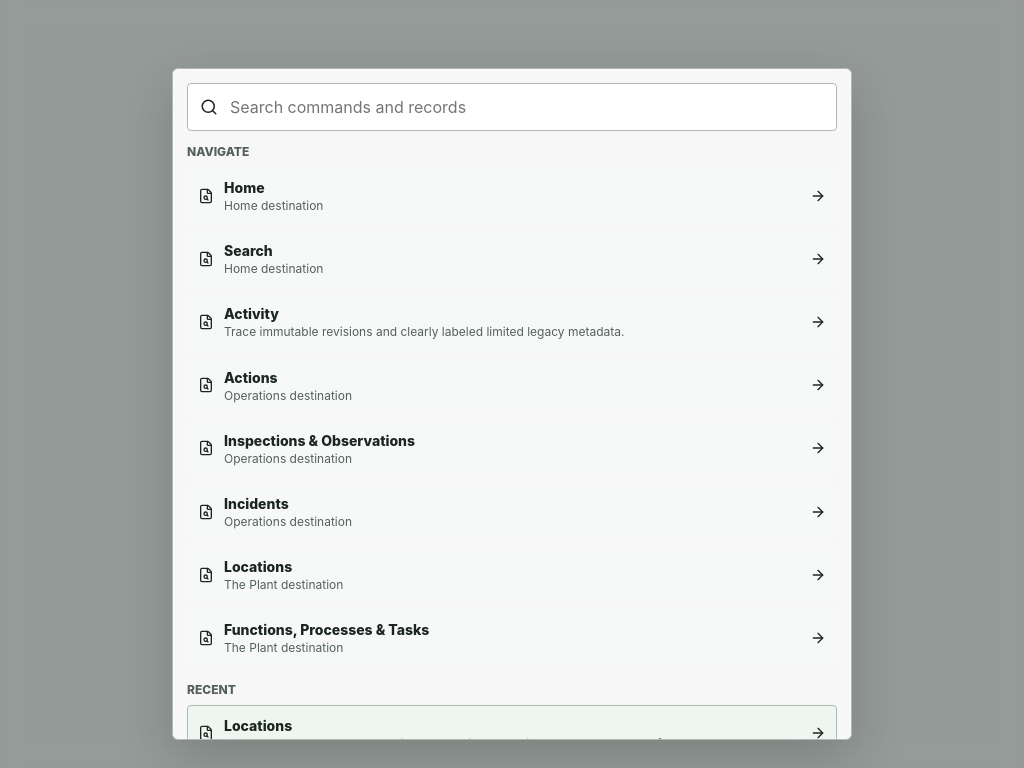
it: CommandPalette › renders navigation and create/start intents
expect the dialog named "Command Palette" is shown: met, box [172, 68, 852, 740]
expect the heading "Recent" is shown: met, box [187, 682, 236, 696]
In the field labelled "Search commands and records": (526, 107) [228, 94, 824, 120], type "finding"
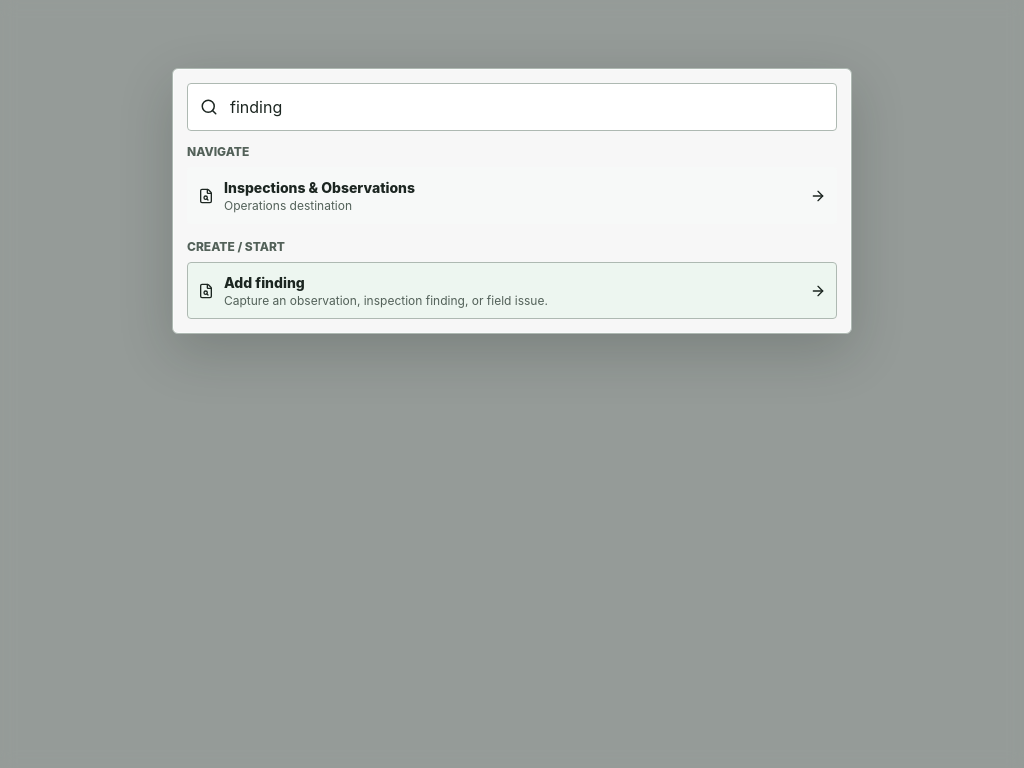
expect the button "Add finding" is shown: met, box [187, 262, 837, 319]
